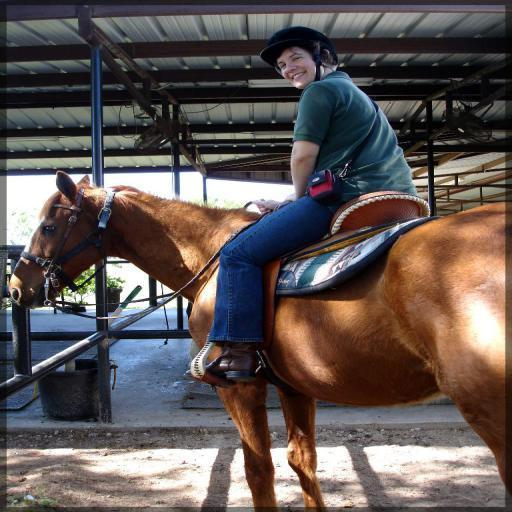horse: (4, 171, 510, 509)
